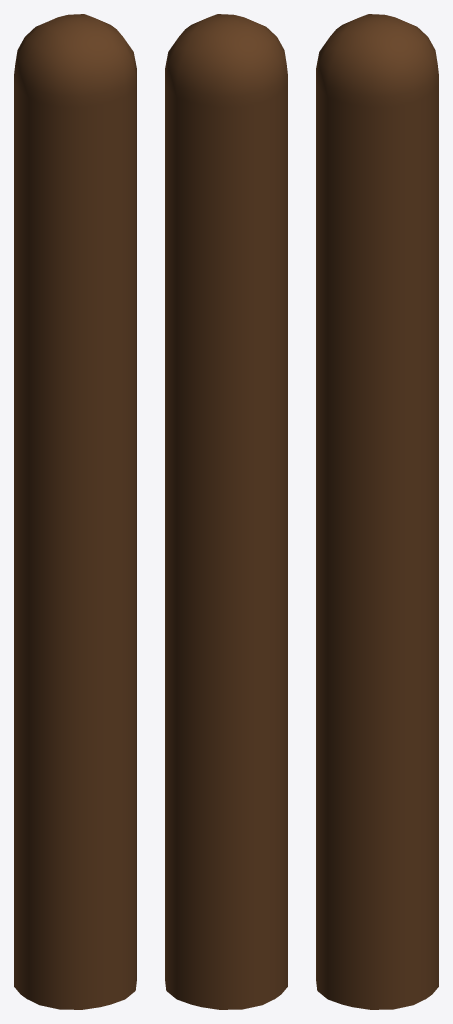
Rendered from Padded_Fence_Post.fbx.
3 views of the same model, side by side, from view 1: azimuth 30°, elevation 25°; view 2: azimuth 150°, elevation 25°; view 3: azimuth 330°, elevation 25° (orthographic).
Parts seen in each view (by area): view 1: Padded_Fence_Post; view 2: Padded_Fence_Post; view 3: Padded_Fence_Post.
Part boxes in pixels (x1=…): Padded_Fence_Post: x1=14, y1=14, x2=136, y2=1009; Padded_Fence_Post: x1=165, y1=14, x2=287, y2=1009; Padded_Fence_Post: x1=316, y1=14, x2=438, y2=1009.
Bounding box in the file's own units: 74.49 × 661 × 74.49.
